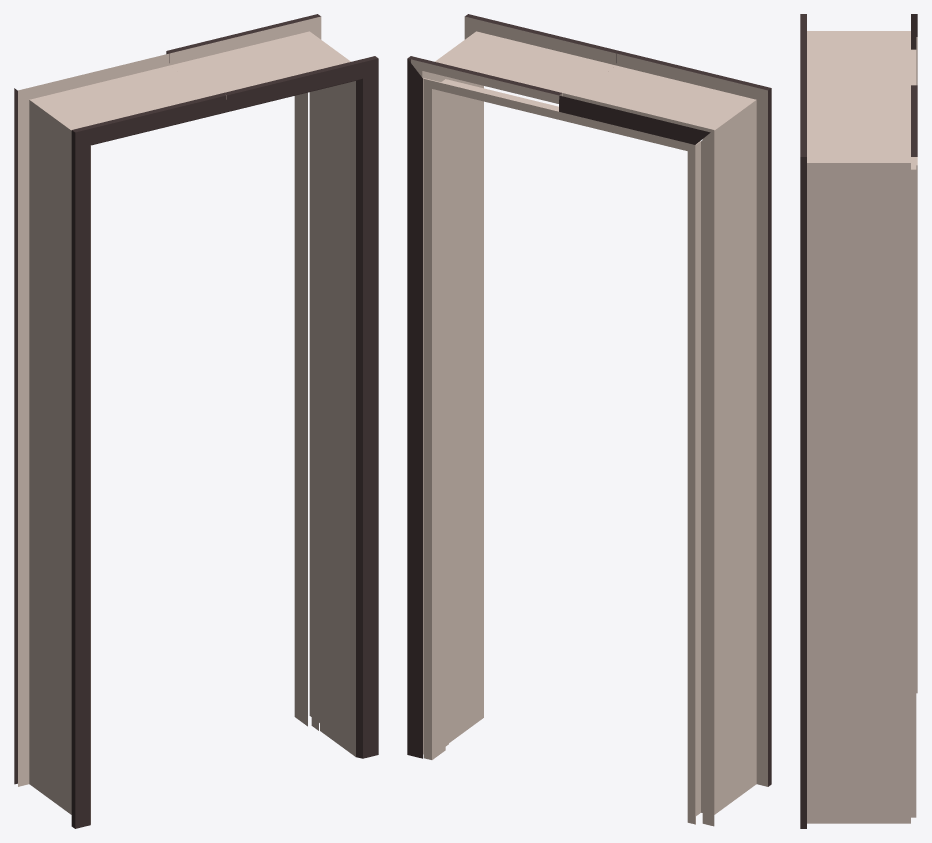
File: BDoorFrame.glb
3 views of the same model, side by side, from view 1: azimuth 30°, elevation 25°; view 2: azimuth 150°, elevation 25°; view 3: azimuth 270°, elevation 25° (orthographic). The views are drawn at different scales.
Parts seen in each view (by area): view 1: DoorFrame1.001; view 2: DoorFrame1.001; view 3: DoorFrame1.001.
Part boxes in pixels (left/top/right/bottom): DoorFrame1.001: left=14, top=14, right=378, bottom=828; DoorFrame1.001: left=407, top=14, right=771, bottom=826; DoorFrame1.001: left=800, top=14, right=917, bottom=828.
Size of the model in its own units: 9.74 by 21.37 by 3.38.
